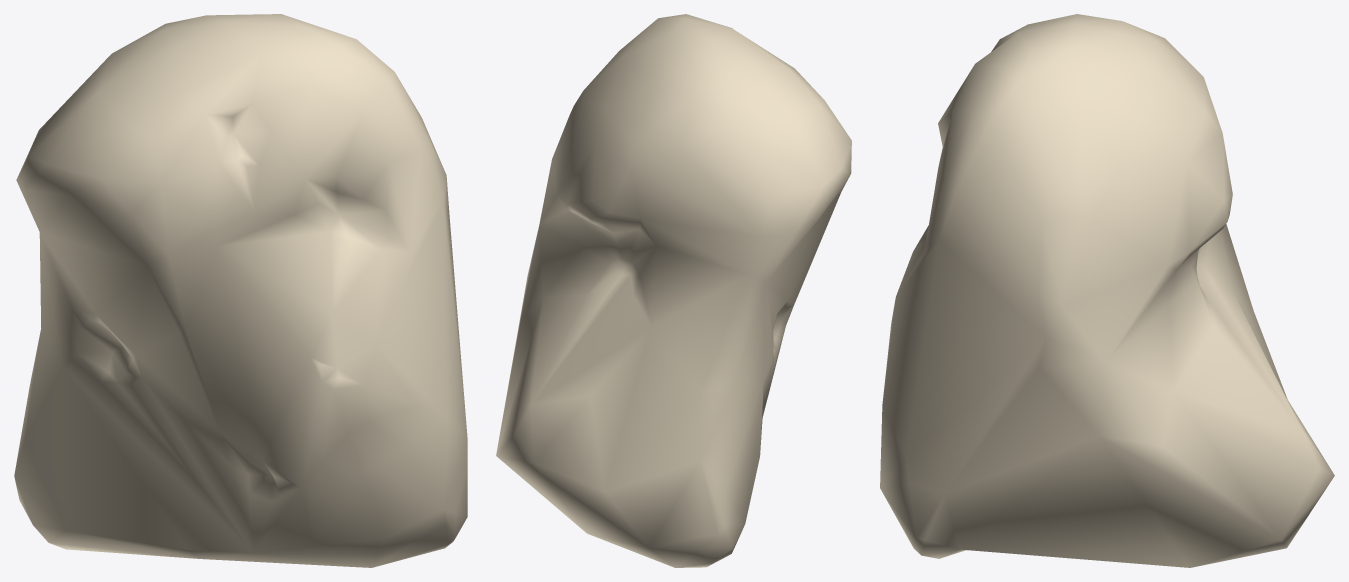
File: capitate-bone-l.glb
3 views of the same model, side by side, from view 1: azimuth 30°, elevation 25°; view 2: azimuth 150°, elevation 25°; view 3: azimuth 270°, elevation 25° (orthographic). The views are drawn at different scales.
Parts seen in each view (by area): view 1: Capitate bone.l; view 2: Capitate bone.l; view 3: Capitate bone.l.
Part boxes in pixels (x1,y1,x2,y2): Capitate bone.l: (14, 14, 467, 567); Capitate bone.l: (496, 14, 851, 567); Capitate bone.l: (880, 14, 1334, 567).
Size of the model in its own units: 0.0166 by 0.0234 by 0.018.
